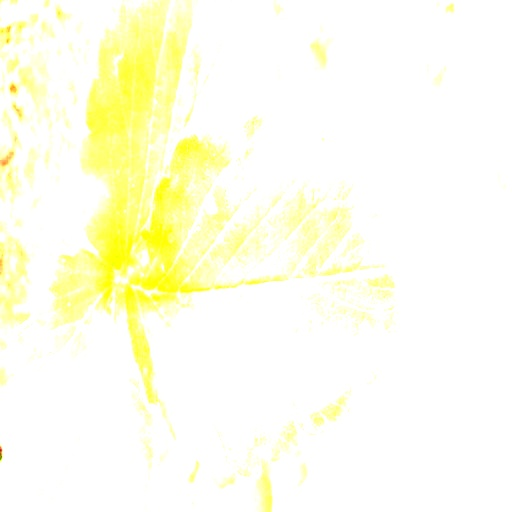Leaf Spot: (118, 105, 408, 479), (0, 248, 159, 511)
